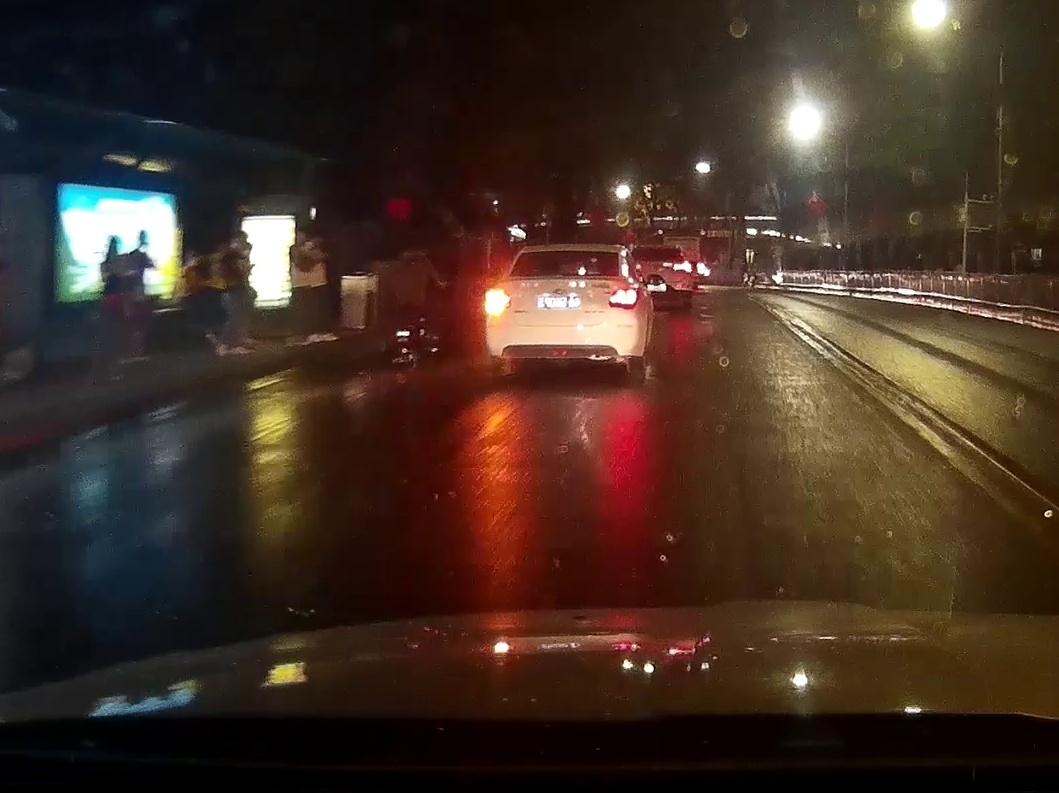L_light: (486, 290, 511, 308)
R_light: (608, 289, 638, 309)
T_light: (555, 251, 579, 256)
night-left: (485, 244, 644, 378)
